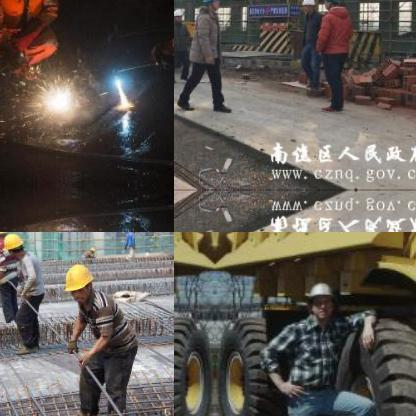Helmet: (61, 258, 95, 304), (302, 280, 336, 316), (3, 232, 24, 255), (199, 0, 220, 14), (297, 0, 316, 14), (322, 0, 337, 12), (174, 6, 182, 22), (0, 232, 8, 242), (128, 232, 136, 235)
